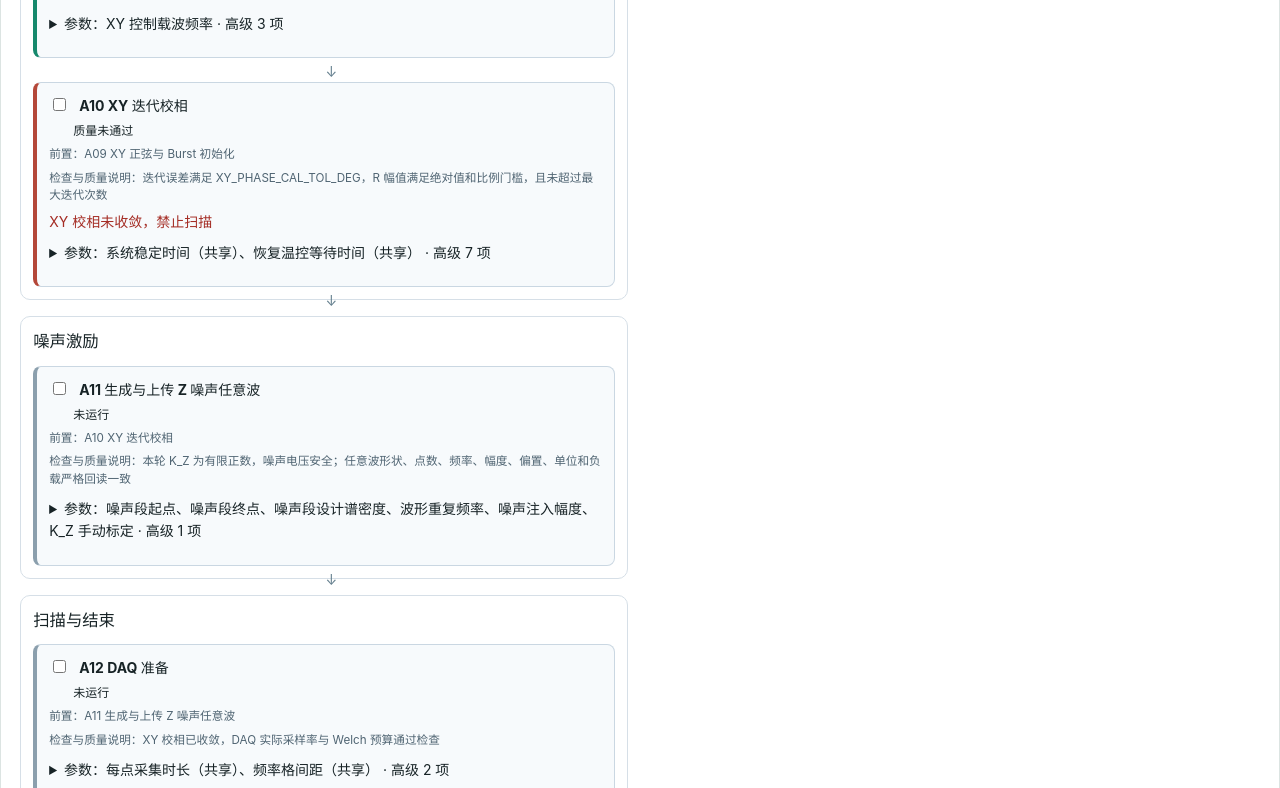
校相质量错误不能绕过，展示真实门槛并阻止后继
(page scrolled)
Expected: the text "XY 校相未收敛，禁止扫描" is shown, [49,213,212,230]
Click the checkbox labelled "A11 生成与上传 Z 噪声任意波" at point(60, 388), box [53,382,66,394]
(page scrolled)
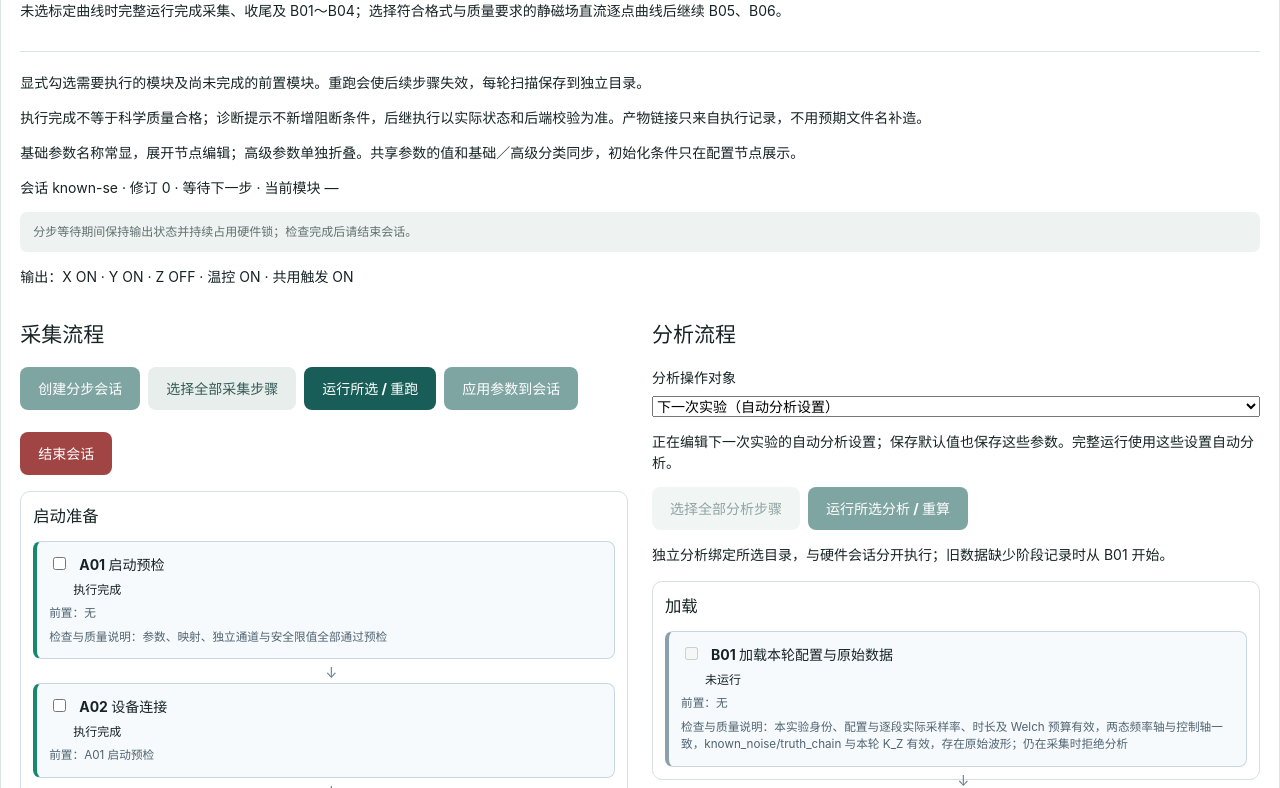
Click the button "运行所选 / 重跑" at point(370, 389), box [304,368,436,410]
(page scrolled)
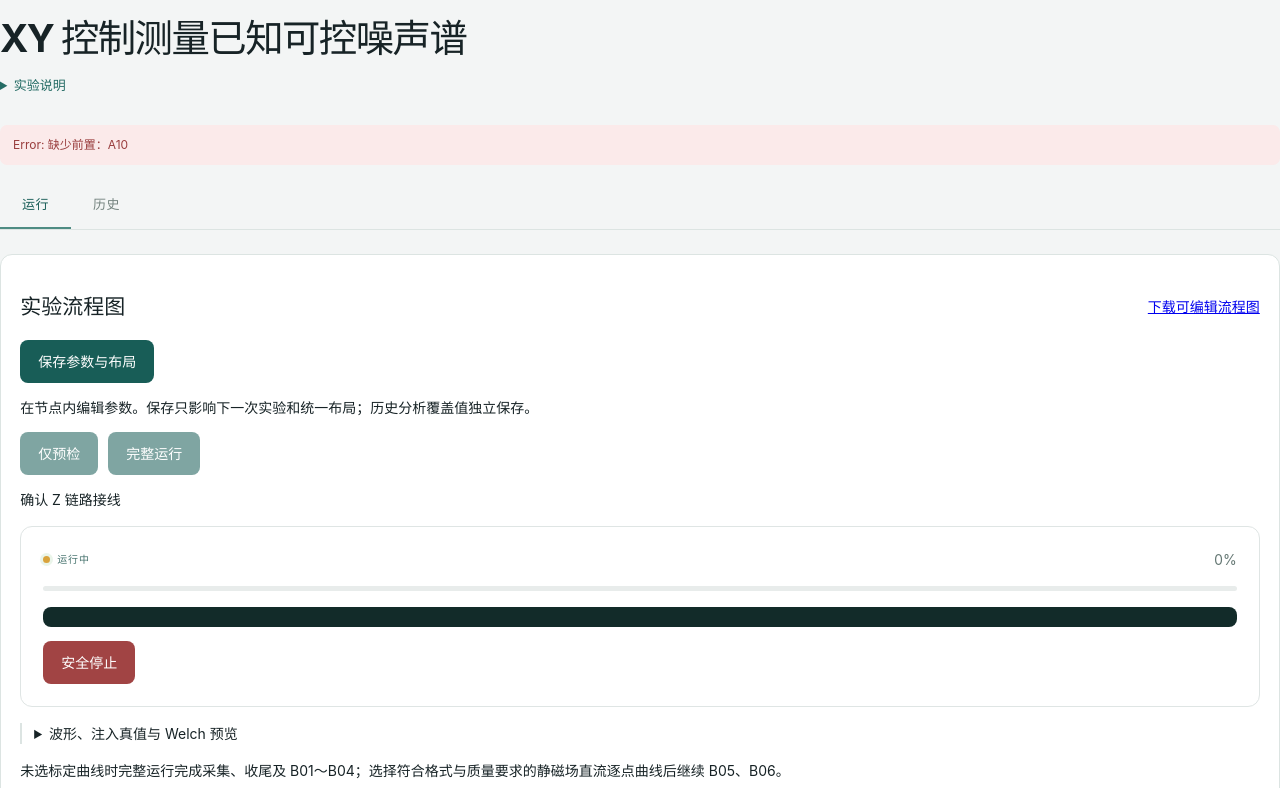
Result: the text "Error: 缺少前置：A10" is shown at [0,125,1279,165]
